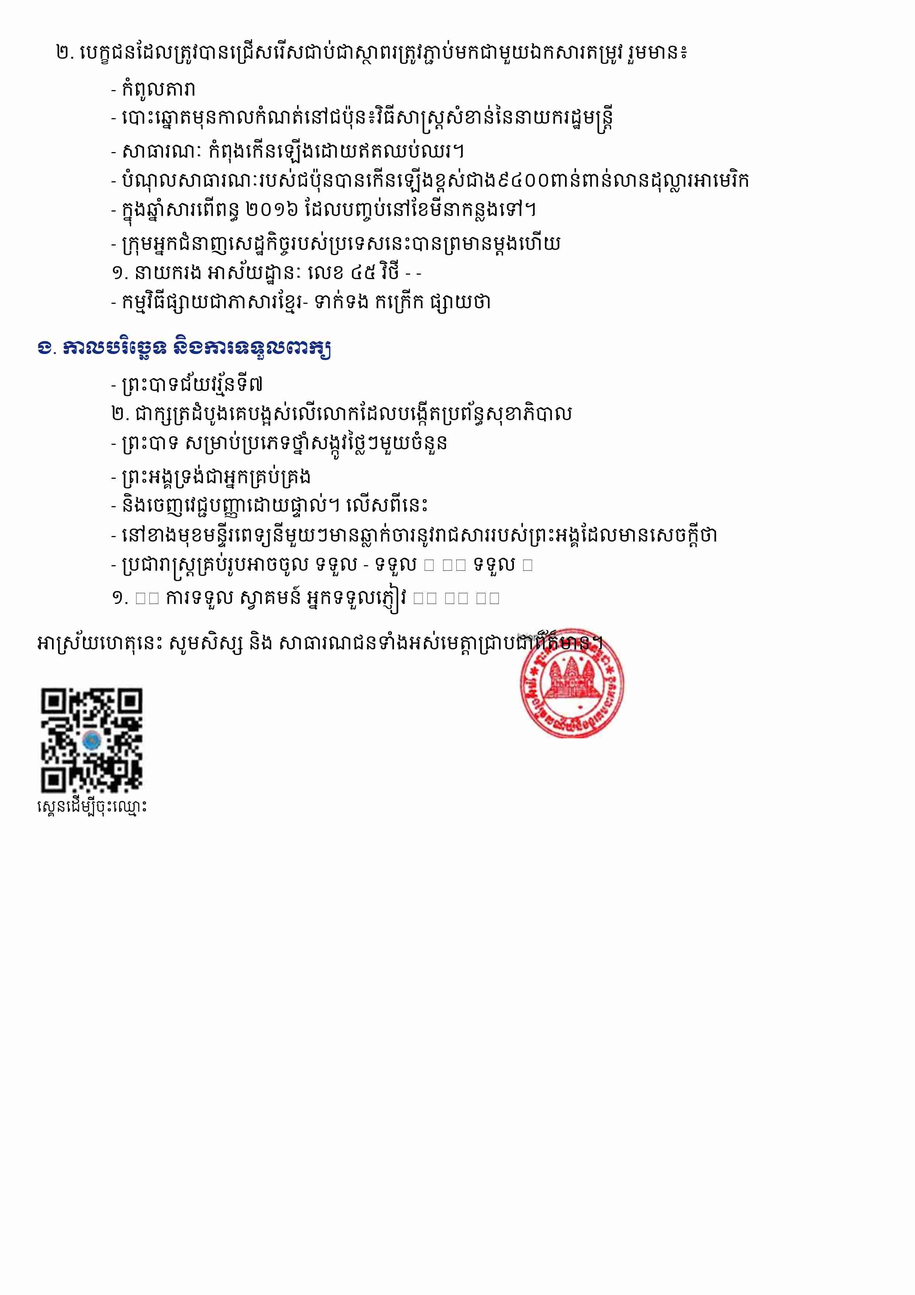decorative: (37, 683, 148, 794), (517, 628, 627, 738)
text: (111, 167, 750, 193), (55, 39, 689, 65), (111, 522, 718, 547), (111, 104, 614, 134), (37, 630, 604, 655), (111, 196, 537, 227), (111, 583, 501, 615), (111, 552, 534, 581), (111, 230, 562, 256), (111, 401, 573, 426), (111, 430, 448, 460), (111, 289, 492, 314), (111, 138, 465, 164), (111, 492, 429, 518), (111, 260, 422, 285), (37, 334, 331, 360), (111, 464, 312, 489), (111, 371, 264, 397), (37, 794, 148, 817), (111, 77, 196, 102)
